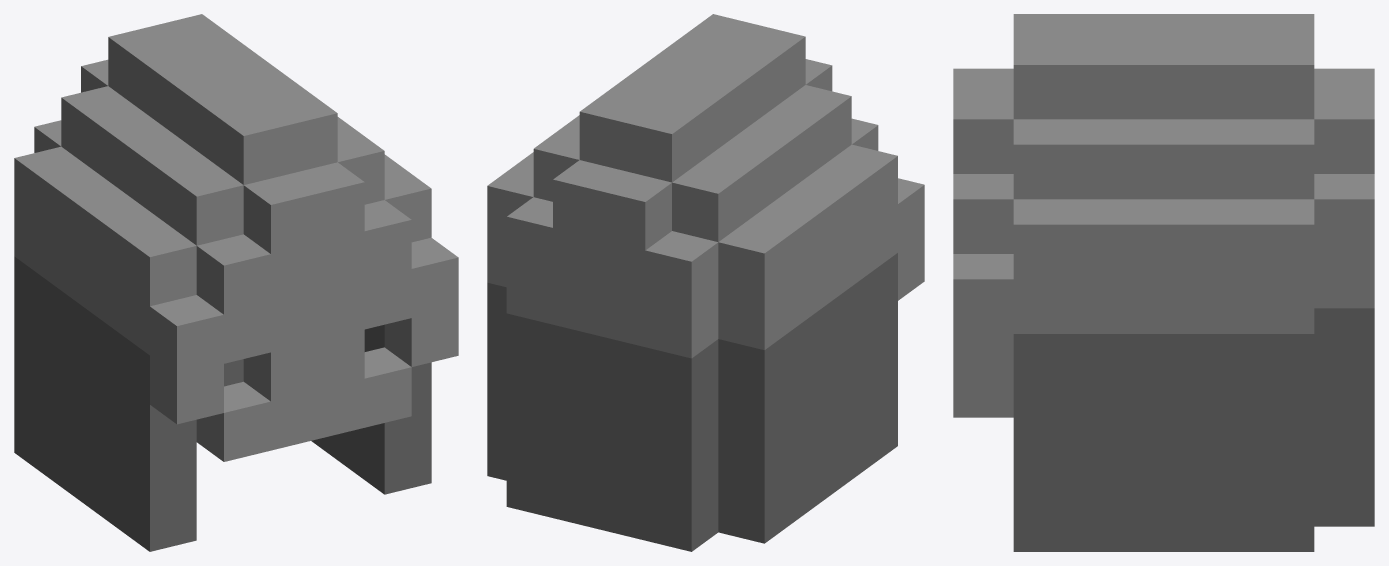
The model's file is character-211-helm_med_2a_ja.obj.
The picture shows the model from 3 angles, left to right: view 1: azimuth 30°, elevation 25°; view 2: azimuth 150°, elevation 25°; view 3: azimuth 270°, elevation 25°; orthographic projection. The views are drawn at different scales.
Visible parts, largest first — view 1: helm_med_2a_ja; view 2: helm_med_2a_ja; view 3: helm_med_2a_ja.
Part boxes in pixels (x1=…): helm_med_2a_ja: x1=14, y1=14, x2=458, y2=551; helm_med_2a_ja: x1=487, y1=14, x2=924, y2=551; helm_med_2a_ja: x1=953, y1=14, x2=1374, y2=551.
Bounding box in the file's own units: 0.6 × 0.8 × 0.7.
Materials: 1 (1 with a texture image).
